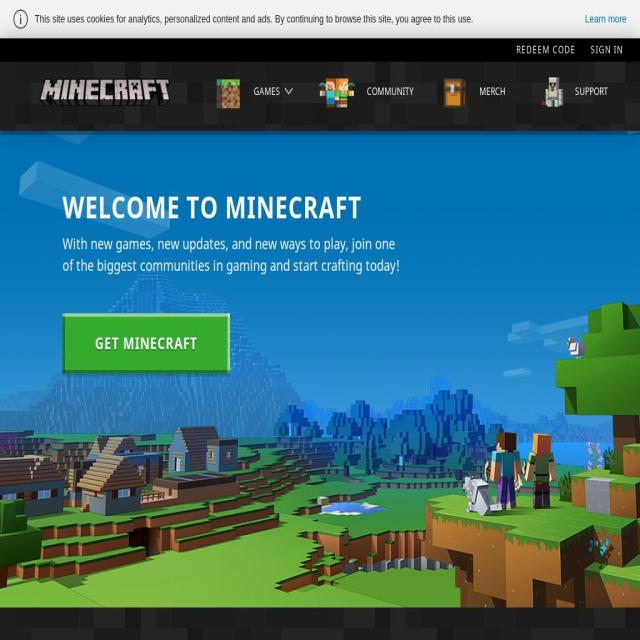button: (62, 312, 230, 373), (306, 54, 426, 128), (520, 54, 618, 128), (426, 54, 514, 128), (585, 8, 627, 30)
heading: (62, 190, 400, 224)
image: (40, 77, 170, 106), (443, 72, 475, 108), (318, 78, 356, 108), (214, 75, 242, 108), (536, 76, 563, 106), (13, 8, 29, 30)
link: (516, 44, 576, 55), (591, 44, 623, 55)
text: (62, 232, 400, 276), (34, 12, 473, 25), (366, 84, 414, 98), (574, 84, 608, 98), (478, 84, 506, 98), (253, 84, 280, 98)
